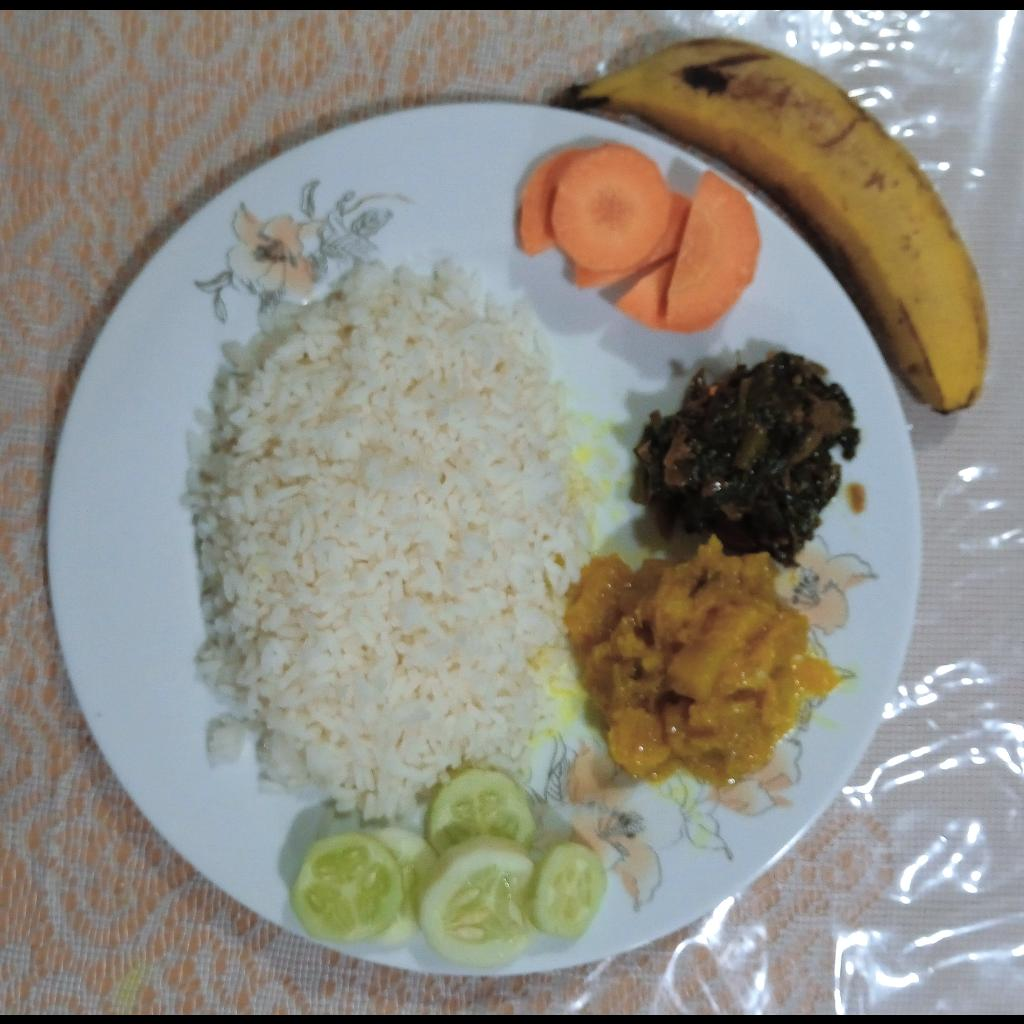banana: (547, 38, 989, 415)
carrot: (520, 144, 761, 334)
cucumber: (286, 769, 608, 966)
kumra-vaji: (563, 539, 844, 786)
rice: (188, 260, 595, 820)
shak: (631, 356, 858, 566)
